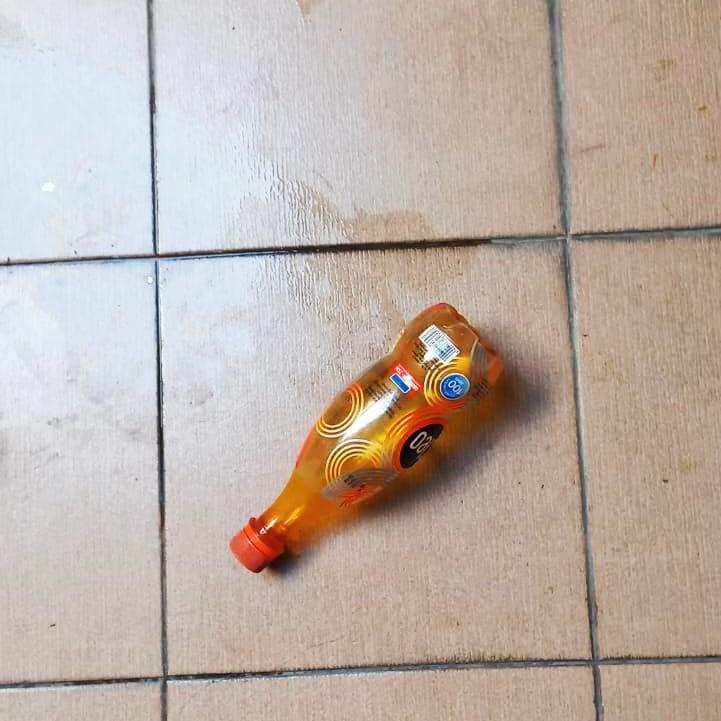Plastik: (229, 301, 503, 574)
